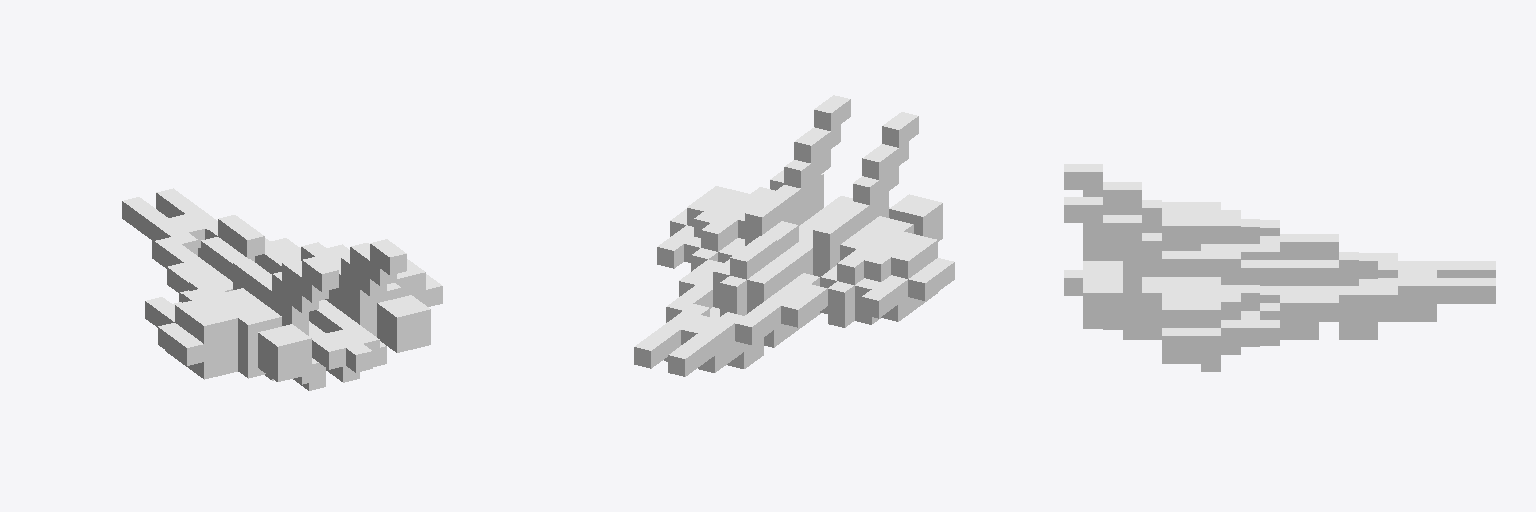
Rendered from VicViper.obj.
3 renders of one model, left to right at view 1: azimuth 30°, elevation 25°; view 2: azimuth 150°, elevation 25°; view 3: azimuth 270°, elevation 25°, orthographic.
Visible parts, largest first — view 1: object 1; view 2: object 1; view 3: object 1.
Part boxes in pixels (x1,y1,x2,y2): object 1: (122, 188, 442, 390); object 1: (634, 95, 954, 376); object 1: (1064, 164, 1495, 371).
Size of the model in its own units: 1.5 by 0.8 by 2.2.